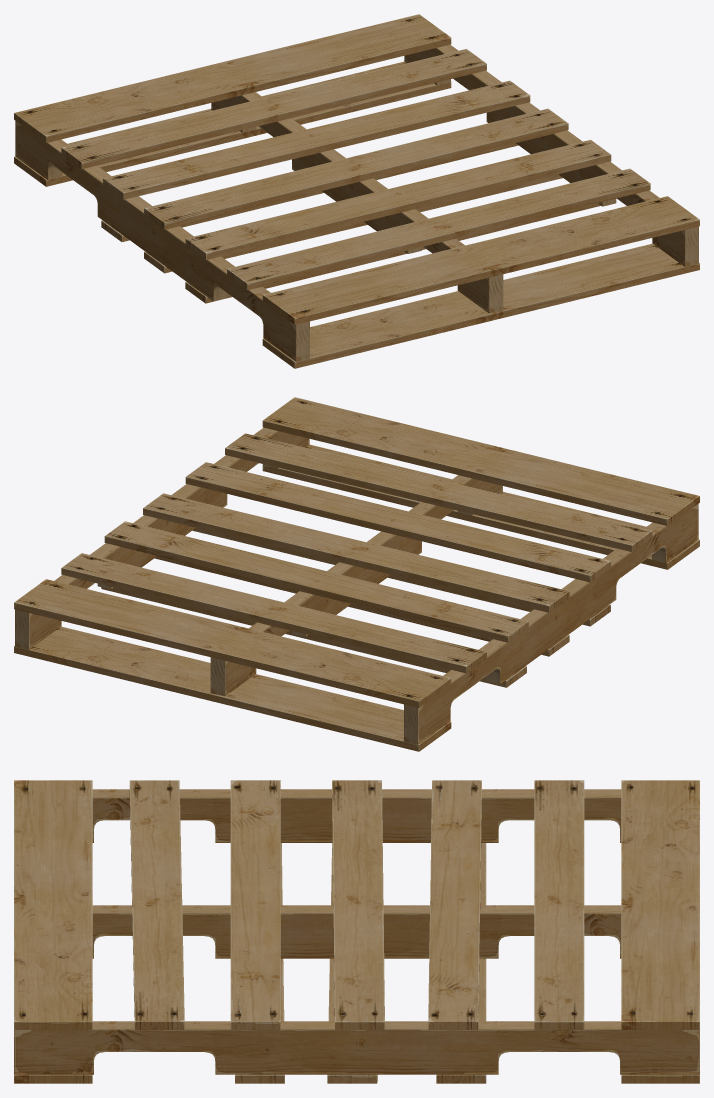
File: Warehouse_Pallet_Empty.FBX
3 renders of one model, top to bottom at view 1: azimuth 30°, elevation 25°; view 2: azimuth 150°, elevation 25°; view 3: azimuth 270°, elevation 25°, orthographic. The views are drawn at different scales.
Parts seen in each view (by area): view 1: Warehouse_Pallet_Empty; view 2: Warehouse_Pallet_Empty; view 3: Warehouse_Pallet_Empty.
Part boxes in pixels (x1,y1,x2,y2): Warehouse_Pallet_Empty: (14, 14, 699, 368); Warehouse_Pallet_Empty: (14, 397, 699, 751); Warehouse_Pallet_Empty: (14, 780, 699, 1083).
Size of the model in its own units: 40 by 4.75 by 48.
Materials: 1 (1 with a texture image).
